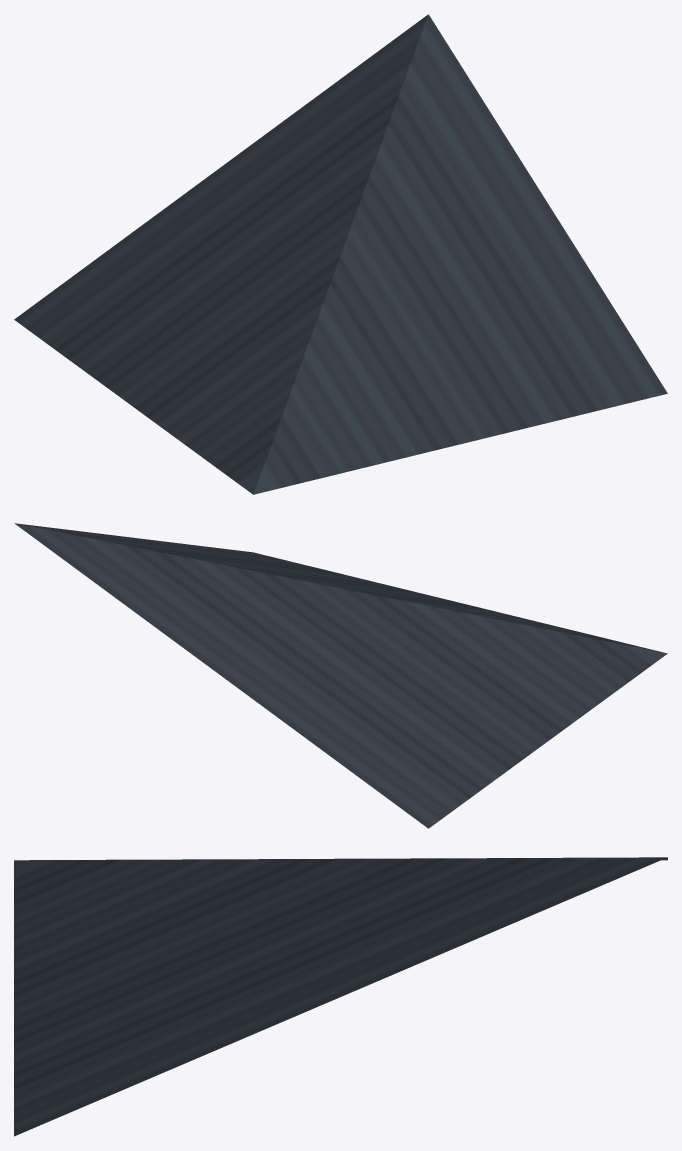
File: SM_Bld_House_Roof_Angled_Corner_Middle_02.fbx
3 views of the same model, one above another, from view 1: azimuth 30°, elevation 25°; view 2: azimuth 150°, elevation 25°; view 3: azimuth 270°, elevation 25° (orthographic). The views are drawn at different scales.
Parts seen in each view (by area): view 1: SM_Bld_House_Roof_Angled_Corner_Middle_02; view 2: SM_Bld_House_Roof_Angled_Corner_Middle_02; view 3: SM_Bld_House_Roof_Angled_Corner_Middle_02.
Boxes of the visible parts, bbox=[...] form: SM_Bld_House_Roof_Angled_Corner_Middle_02: bbox=[14, 14, 667, 494]; SM_Bld_House_Roof_Angled_Corner_Middle_02: bbox=[14, 523, 667, 828]; SM_Bld_House_Roof_Angled_Corner_Middle_02: bbox=[14, 857, 667, 1136].
Bounding box in the file's own units: 250 × 118 × 250.
